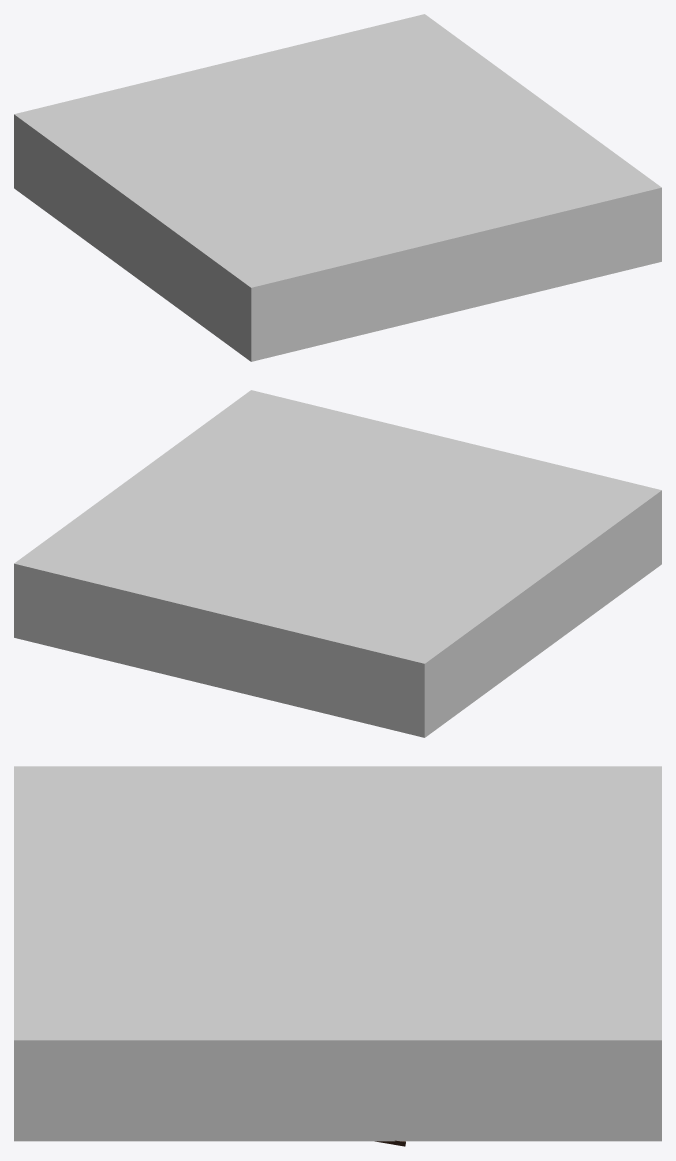
The model's file is urn_b_broken.glb.
3 views of the same model, one above another, from view 1: azimuth 30°, elevation 25°; view 2: azimuth 150°, elevation 25°; view 3: azimuth 270°, elevation 25° (orthographic). The views are drawn at different scales.
Visible parts, largest first — view 1: col_click; view 2: col_click; view 3: col_click.
Boxes of the visible parts, x1=… form: col_click: x1=14, y1=14, x2=661, y2=361; col_click: x1=14, y1=390, x2=661, y2=737; col_click: x1=14, y1=766, x2=661, y2=1141.
Bounding box in the file's own units: 1.74 × 0.3322 × 1.74.
Materials: 2 (2 with a texture image).
